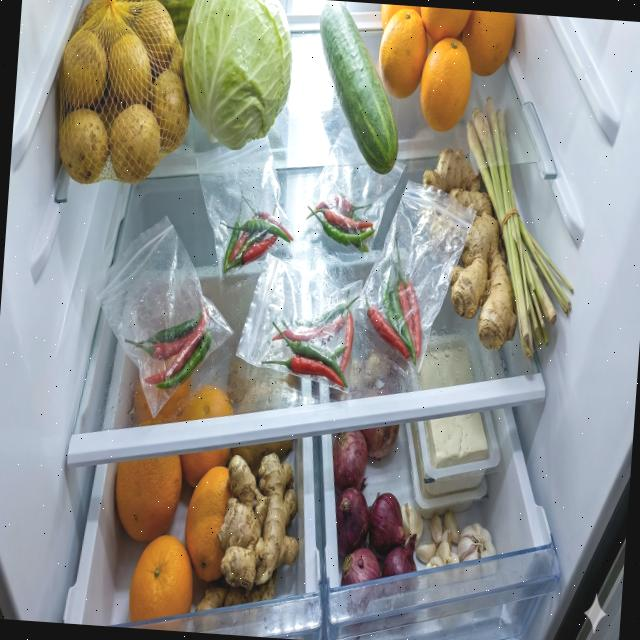cabbage: (174, 0, 296, 154)
chili: (260, 284, 360, 388), (361, 231, 428, 366), (121, 302, 214, 392), (216, 186, 296, 276), (303, 190, 378, 256)
cucumber: (309, 0, 408, 176)
garlic: (396, 502, 499, 574)
ginger: (411, 146, 528, 352), (194, 447, 304, 618)
lemongrass: (451, 94, 586, 362)
onion: (322, 419, 426, 592)
orange: (106, 440, 232, 628), (372, 3, 516, 136)
potato: (51, 0, 198, 192)
tofu: (412, 344, 494, 472)
